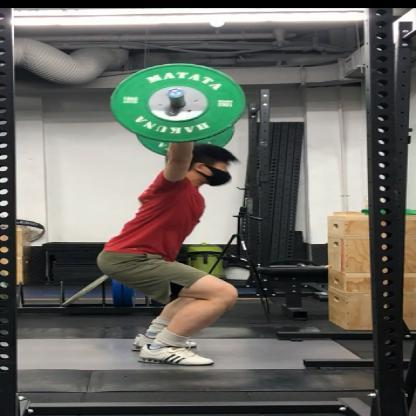barbell: (107, 60, 248, 158)
